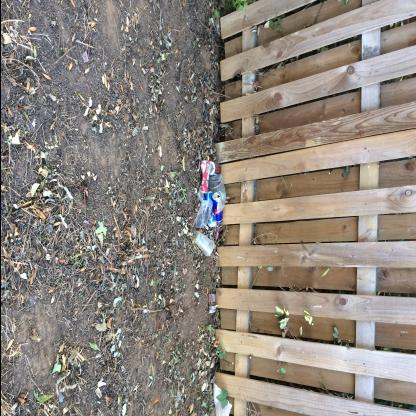kagit: (210, 382, 233, 416), (208, 294, 216, 315)
metal: (203, 192, 217, 228), (199, 161, 210, 195), (212, 194, 223, 226), (209, 163, 221, 177)
plastik: (192, 199, 213, 229), (193, 232, 215, 258), (209, 176, 226, 208)
